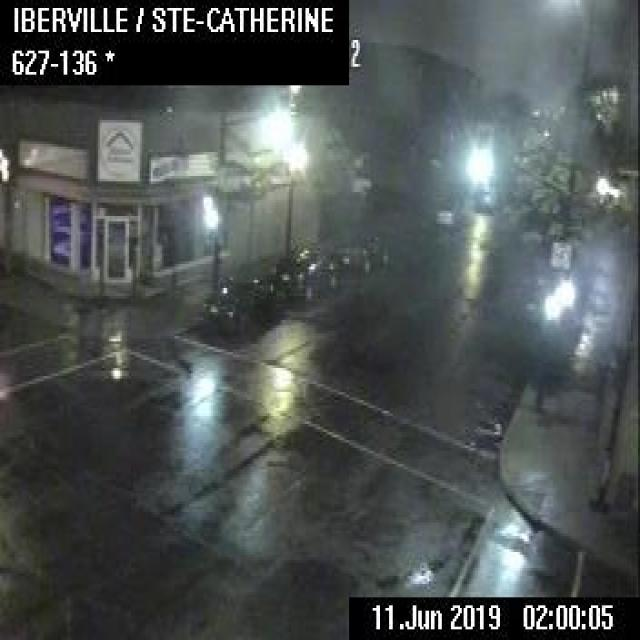vehicle: (202, 265, 274, 333), (275, 238, 334, 295), (334, 233, 388, 272), (472, 184, 494, 211), (434, 203, 454, 225)
